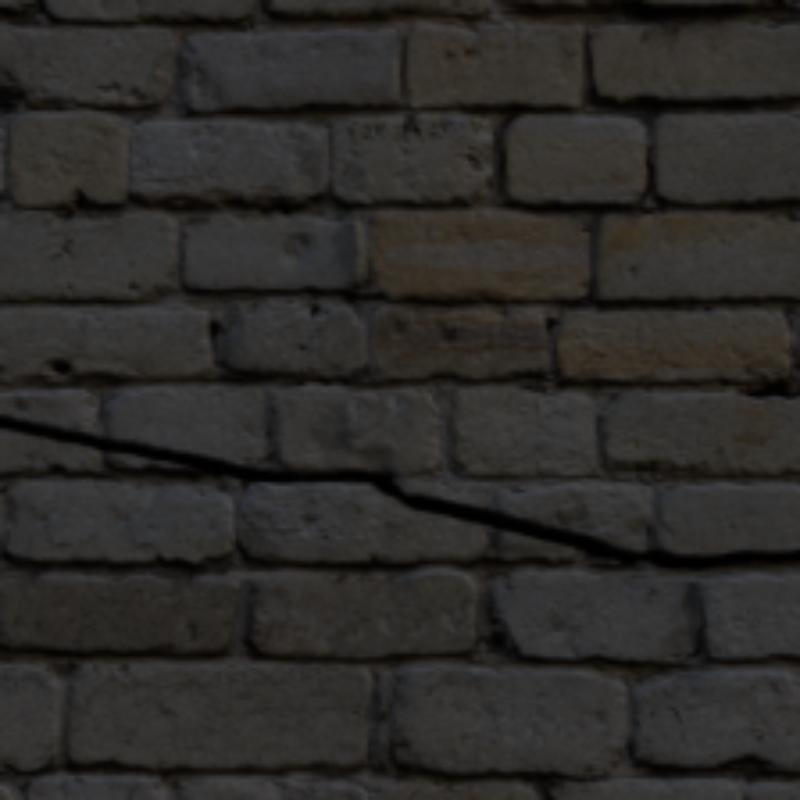crack: (0, 418, 796, 568)
